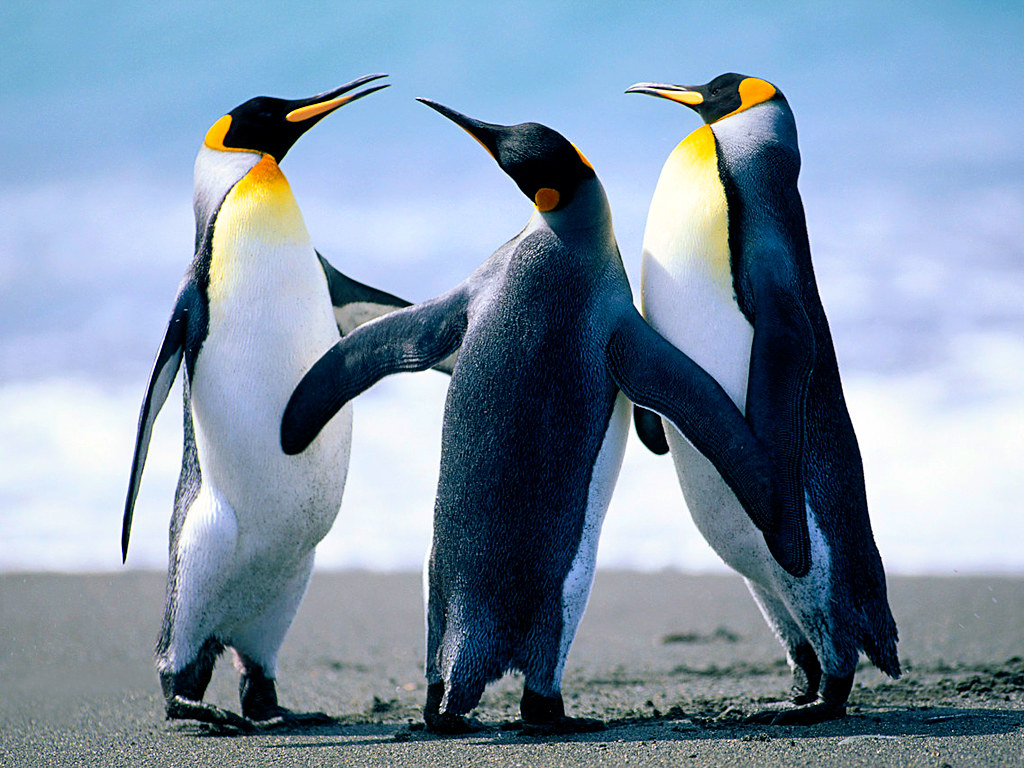penguin: (335, 94, 805, 746), (603, 65, 915, 707), (130, 79, 437, 726)
